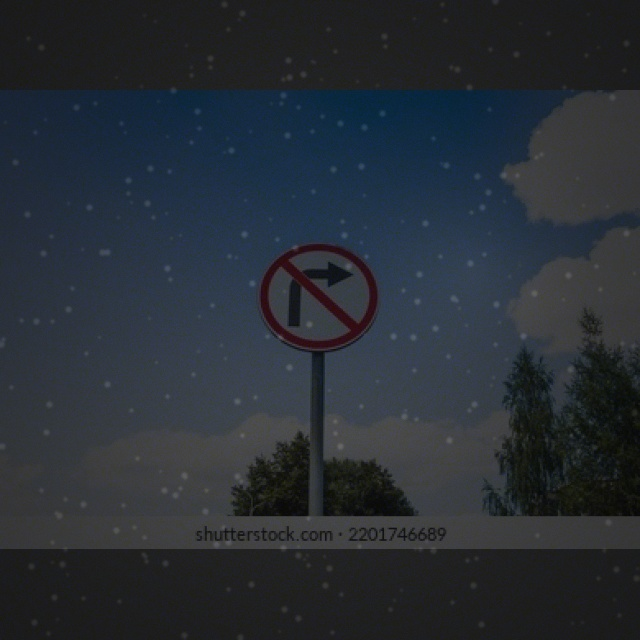Right_Turn_Prohibited: (259, 241, 379, 355)
